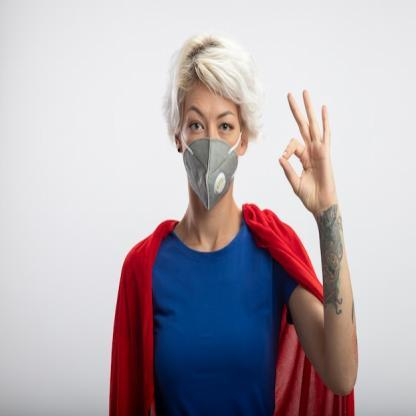ok: (276, 86, 338, 210)
